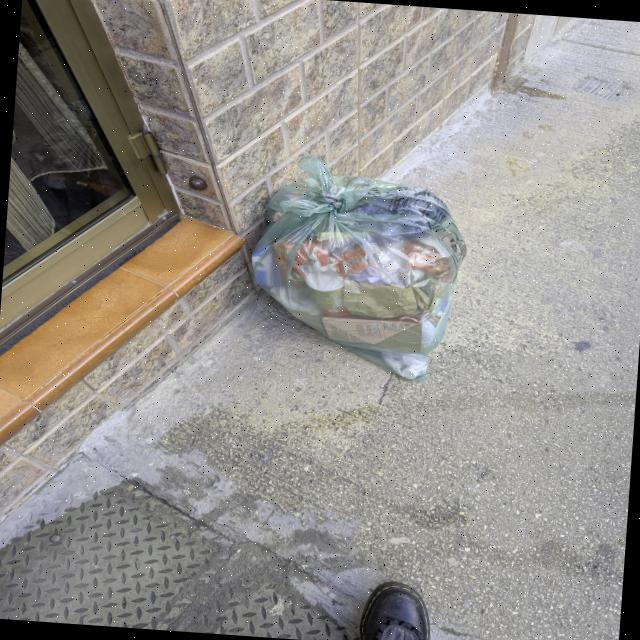Recyclable Material: (240, 148, 472, 386)
